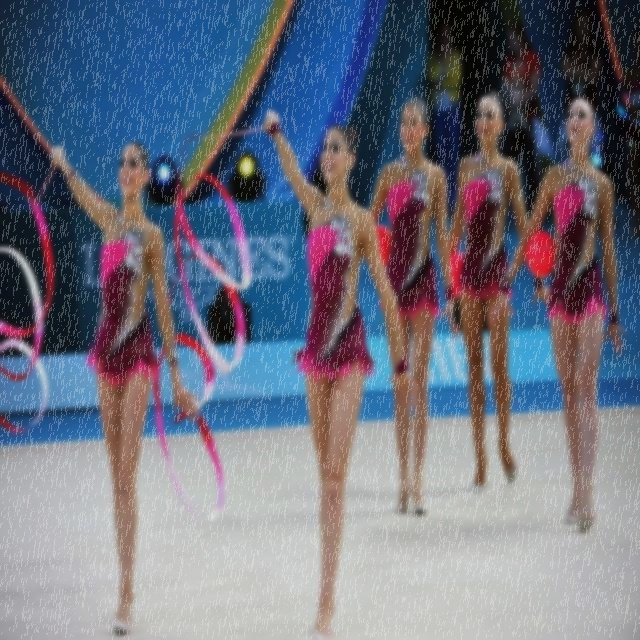pessoa: (260, 104, 422, 639), (49, 138, 202, 638), (486, 94, 628, 536), (351, 92, 464, 520), (442, 87, 560, 495), (498, 16, 544, 222), (426, 21, 464, 217), (560, 11, 604, 100)
